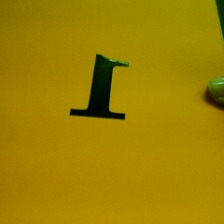orange1: (67, 48, 132, 123)
